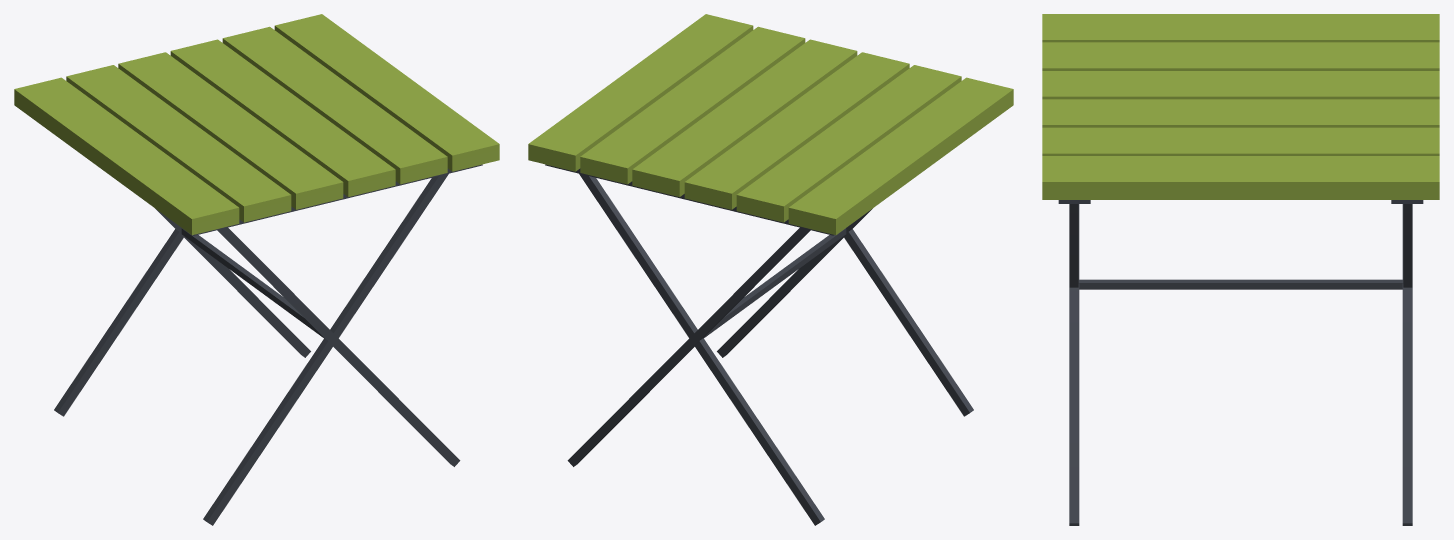
File: Table_08.fbx
3 views of the same model, side by side, from view 1: azimuth 30°, elevation 25°; view 2: azimuth 150°, elevation 25°; view 3: azimuth 270°, elevation 25° (orthographic). The views are drawn at different scales.
Parts seen in each view (by area): view 1: Table_08; view 2: Table_08; view 3: Table_08.
Boxes of the visible parts, x1=… form: Table_08: x1=14, y1=14, x2=499, y2=525; Table_08: x1=528, y1=14, x2=1013, y2=525; Table_08: x1=1042, y1=14, x2=1439, y2=525.
Bounding box in the file's own units: 0.8 × 0.8043 × 0.8.
